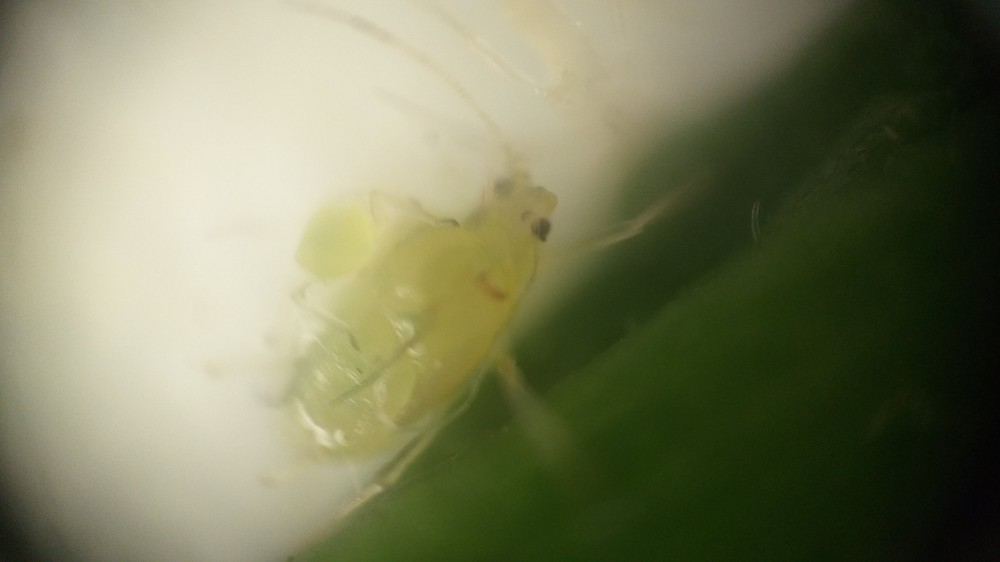Pulgon: (226, 51, 705, 488)
